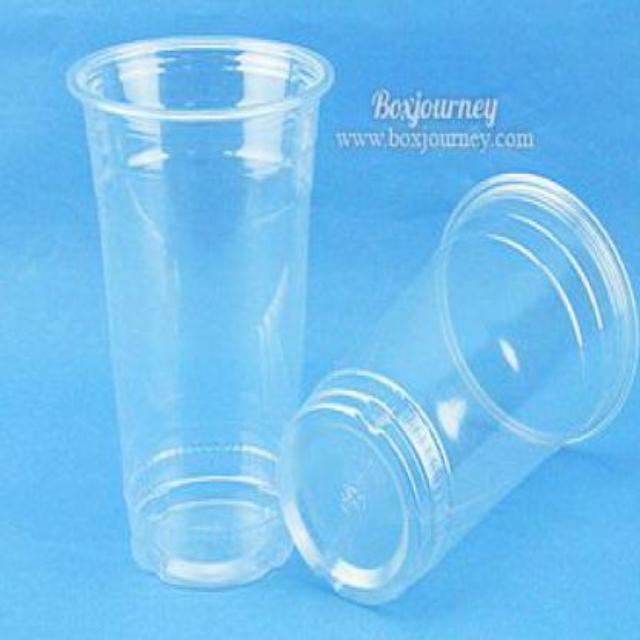plastic_box: (267, 172, 637, 610), (66, 38, 312, 586)
